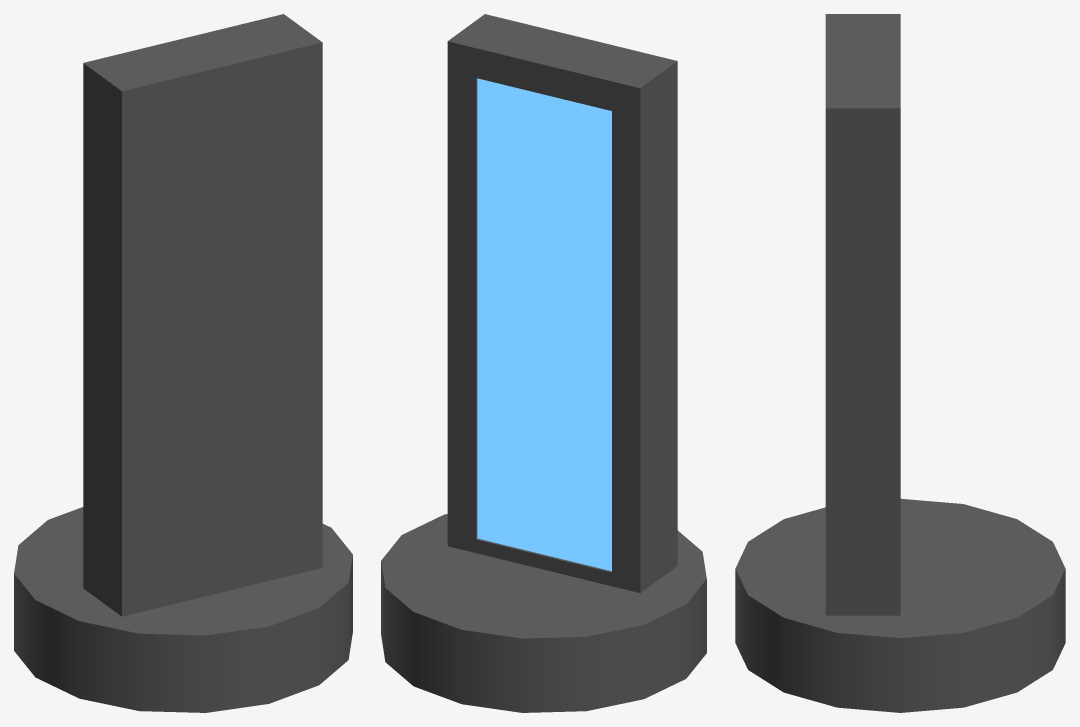
File: mirrorScaledColliders.glb
3 views of the same model, side by side, from view 1: azimuth 30°, elevation 25°; view 2: azimuth 150°, elevation 25°; view 3: azimuth 270°, elevation 25° (orthographic). The views are drawn at different scales.
Parts seen in each view (by area): view 1: mirrorBody; view 2: mirrorBody, mirror; view 3: mirrorBody.
Boxes of the visible parts, x1,y1,x2,y2 form: mirrorBody: [14, 14, 352, 712]; mirrorBody: [381, 14, 706, 712]; mirror: [477, 78, 611, 571]; mirrorBody: [735, 14, 1065, 712].
Size of what is drawn, in the model's own units: 1 by 1.95 by 1.
2 materials, 1 textured.
